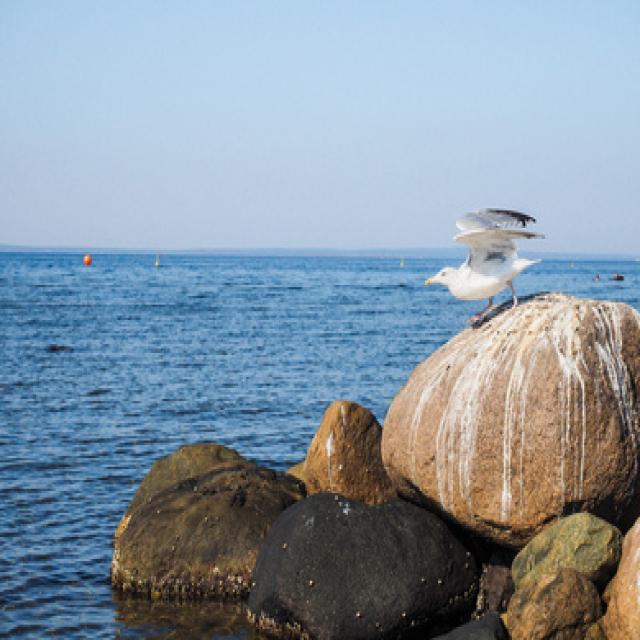reef: (112, 337, 403, 637)
